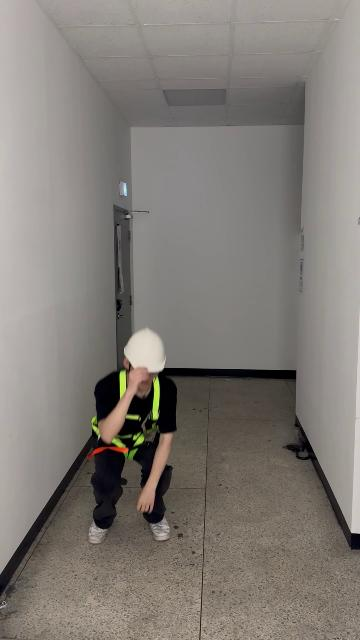helmet_worn: (121, 326, 168, 374)
shoe_not_worn: (149, 516, 170, 541), (88, 521, 108, 544)
vest_worn: (91, 370, 158, 458)
